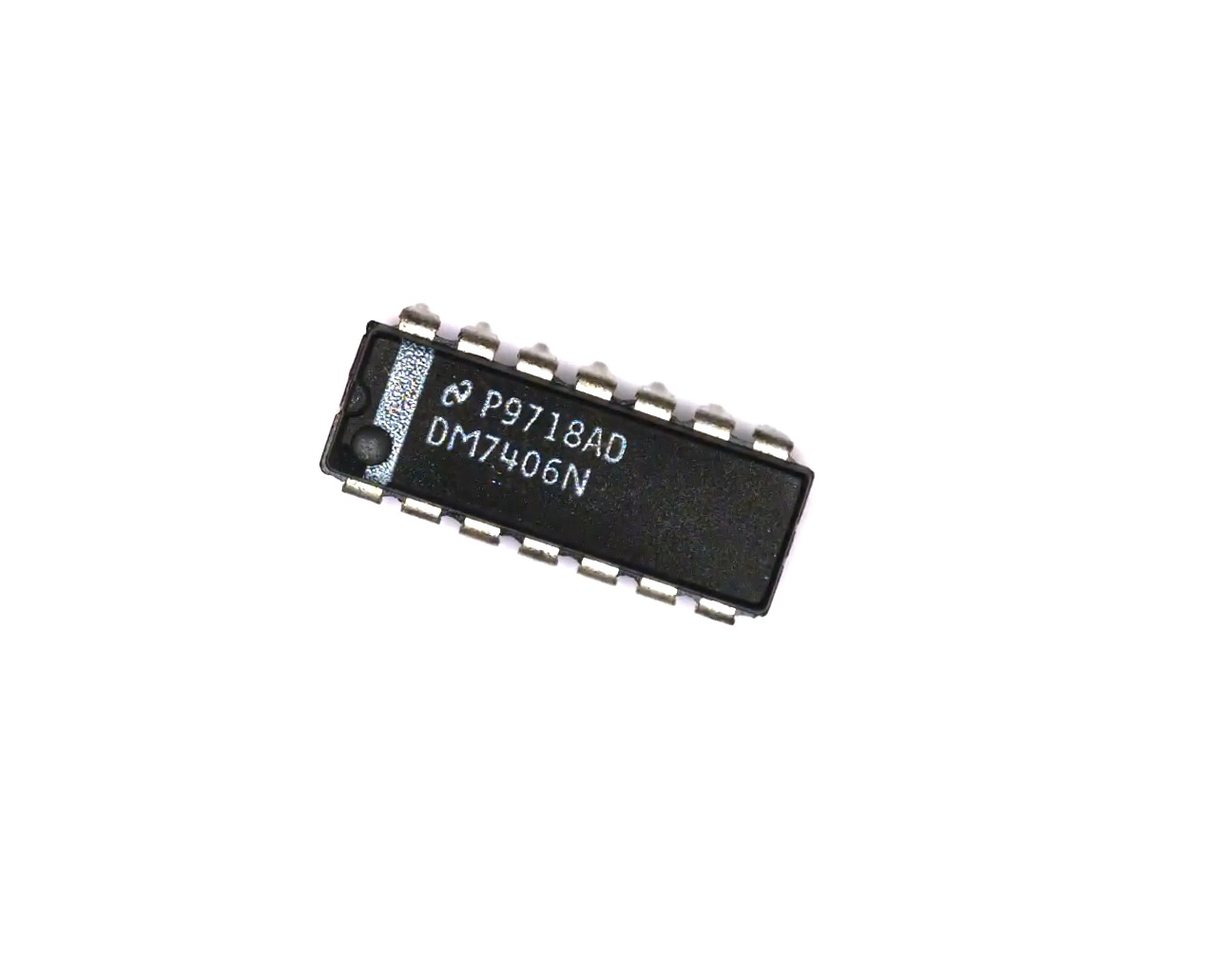IC: (304, 285, 831, 649)
notch: (340, 376, 376, 421)
